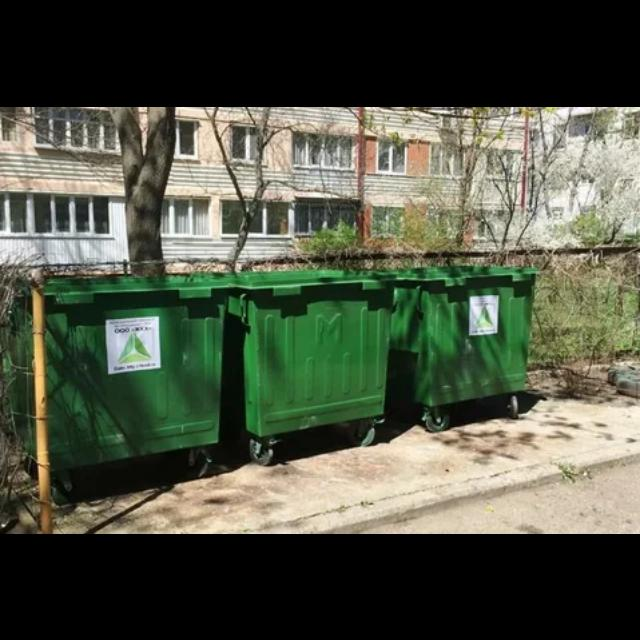Trash_Can_Empty: (3, 272, 233, 477), (218, 270, 401, 439), (389, 265, 537, 406)
